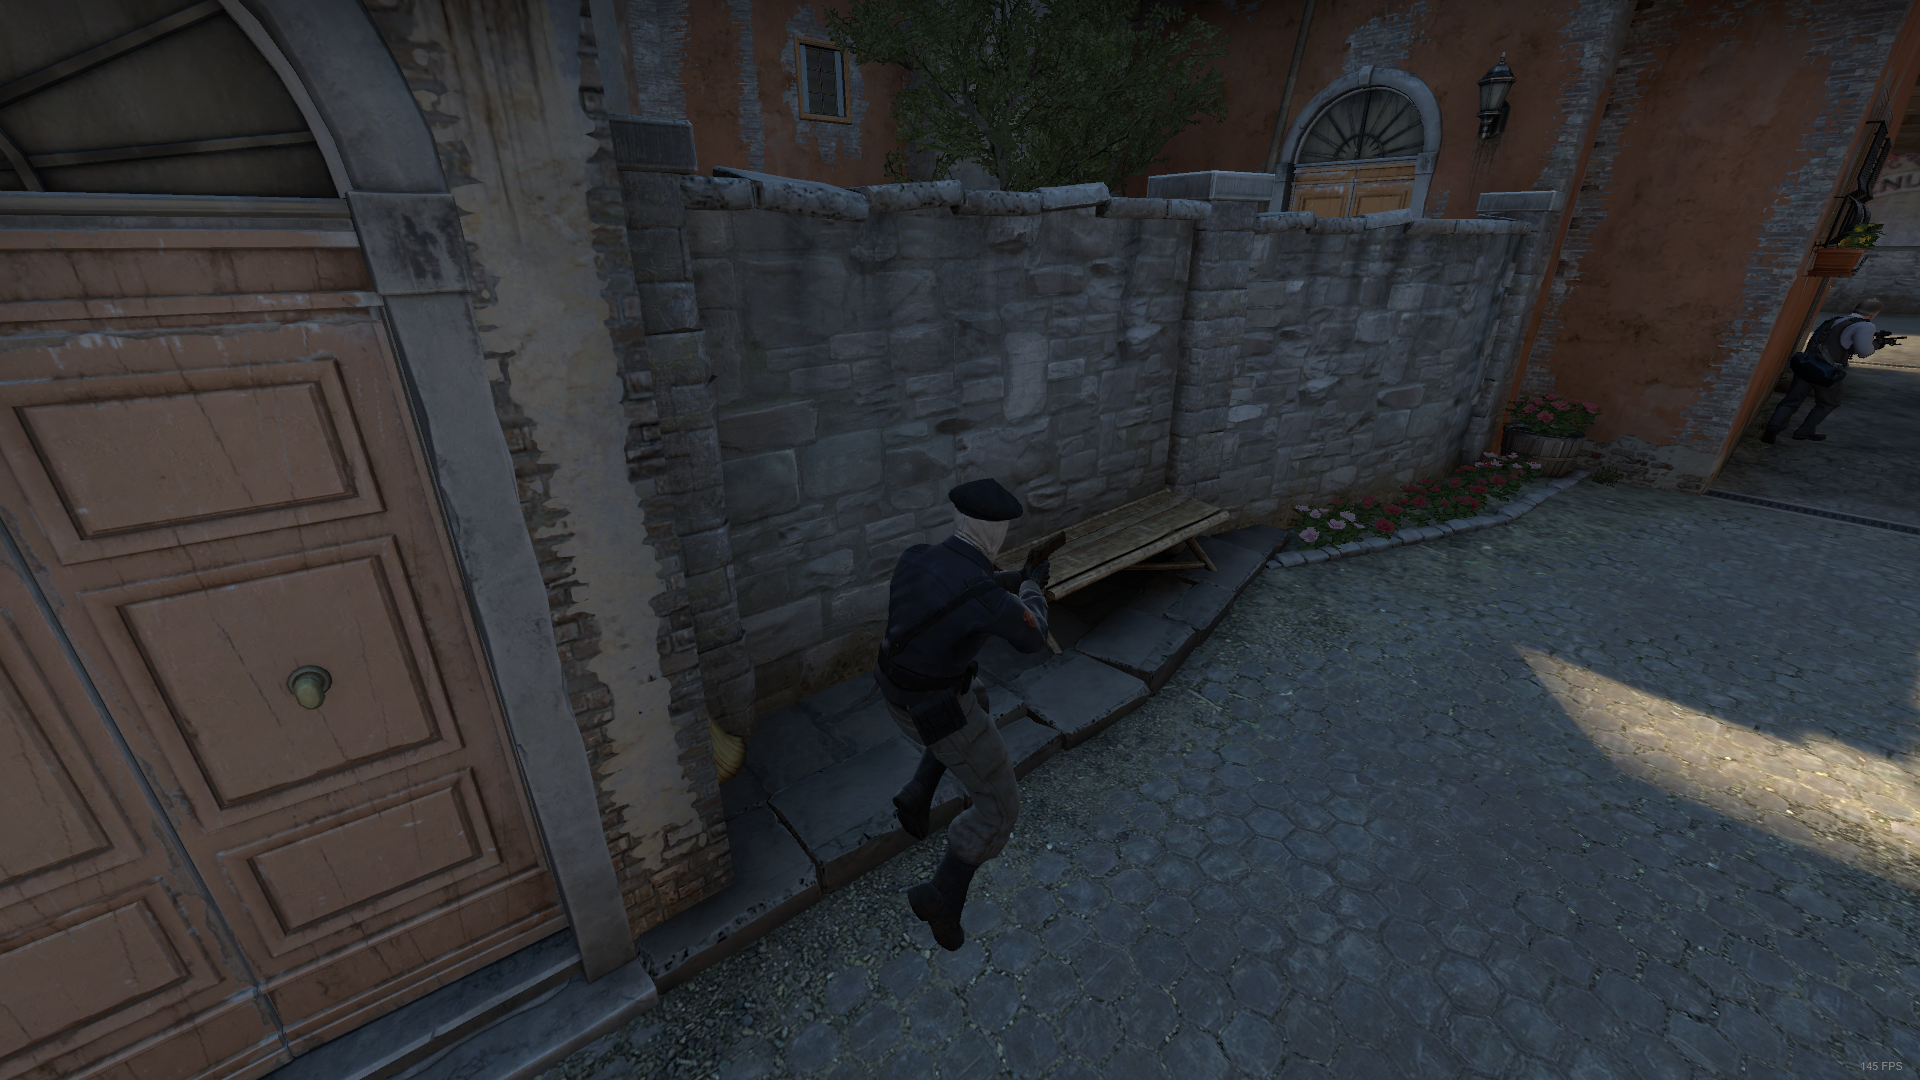t: (858, 476, 1071, 967)
